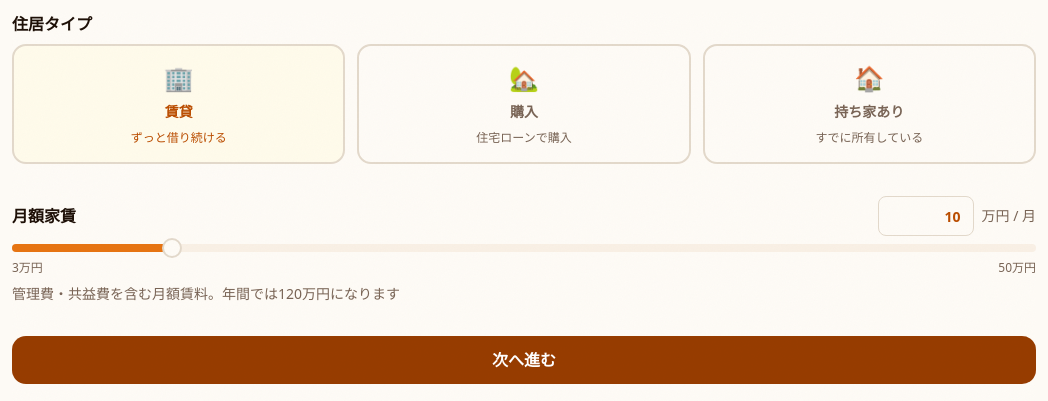
Test: HousingStep interactions › choosing owned home shows the owned-home hint
The image size is (1048, 401).
Click the radio button "持ち家あり" at (869, 104), box left=703, top=44, right=1036, bottom=164
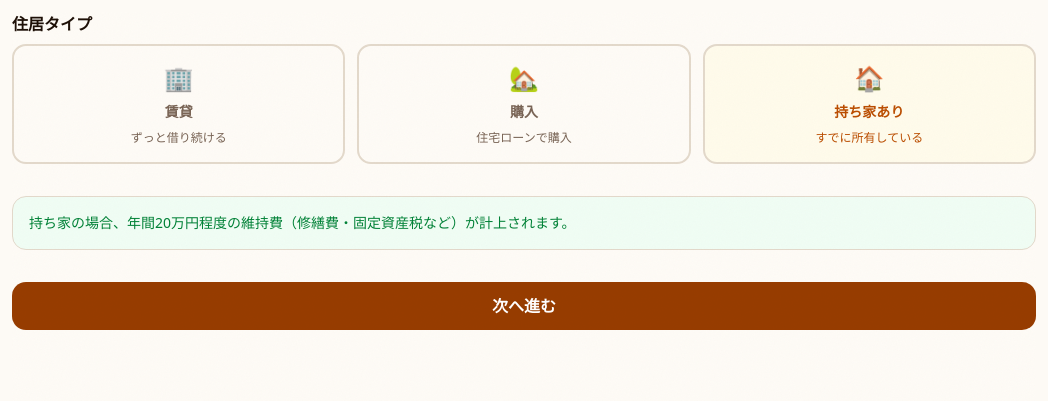
Check: the text "持ち家の場合、年間20万円程度の維持費（修繕費・固定資産税など）が計上されます。" is shown, box left=12, top=196, right=1036, bottom=250
